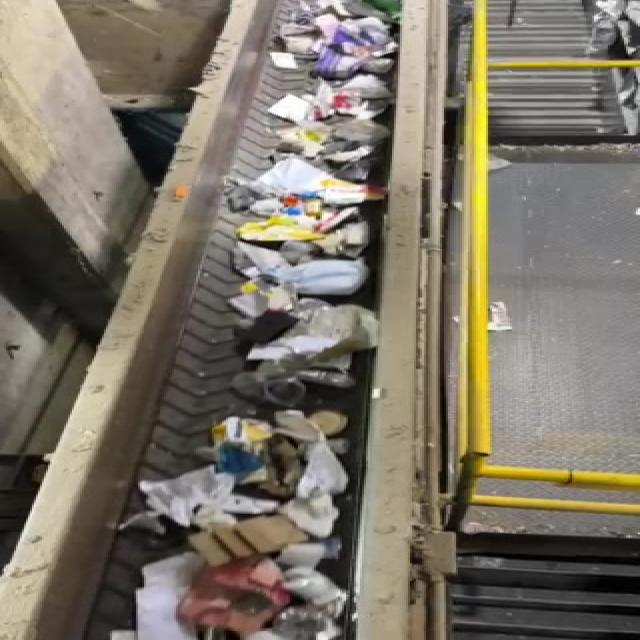paper: (111, 471, 286, 542), (220, 413, 363, 499), (193, 510, 321, 563)
pp: (176, 567, 292, 640)
